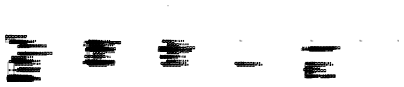corridor: (82, 21, 84, 36)
room: (3, 5, 10, 21), (85, 21, 88, 36), (4, 0, 13, 3), (307, 13, 310, 18), (304, 35, 311, 37), (85, 20, 90, 22), (81, 20, 83, 21), (311, 36, 312, 37), (167, 86, 167, 87), (307, 12, 307, 13)
wall: (82, 21, 84, 36), (85, 18, 86, 36), (304, 35, 313, 36), (4, 3, 12, 4), (83, 35, 85, 36), (312, 36, 313, 37), (10, 2, 11, 3), (83, 35, 84, 36), (83, 21, 85, 21), (80, 40, 87, 40), (6, 2, 6, 3), (13, 3, 13, 3)
